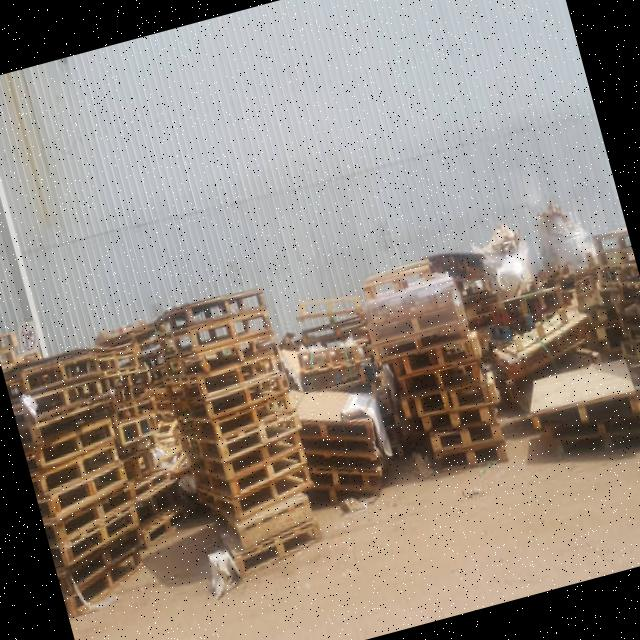Wooden-Pallets: (43, 448, 135, 525), (171, 280, 274, 343), (231, 459, 321, 529), (190, 341, 287, 404), (31, 408, 122, 474), (211, 406, 308, 467), (181, 301, 278, 353), (429, 431, 515, 483), (408, 374, 503, 419)
